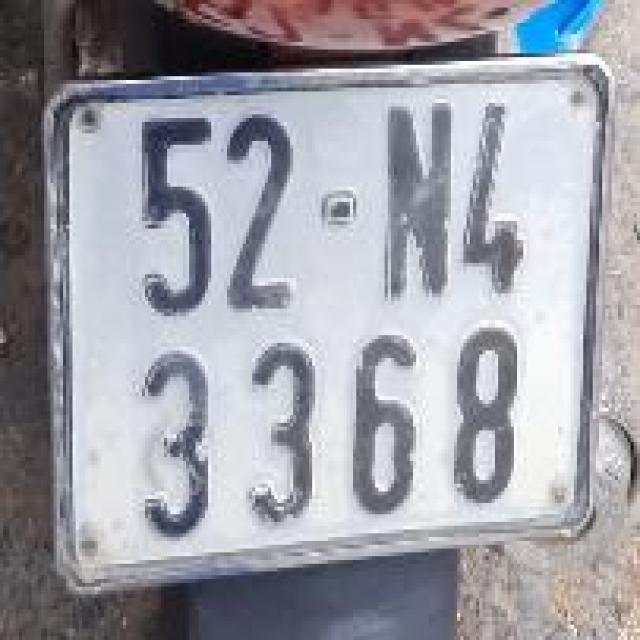2: (224, 105, 306, 318)
3: (132, 344, 218, 546), (246, 330, 325, 528)
4: (457, 89, 527, 303)
5: (131, 106, 219, 324)
6: (337, 322, 429, 524)
8: (444, 311, 533, 508)
N: (372, 91, 457, 305)
